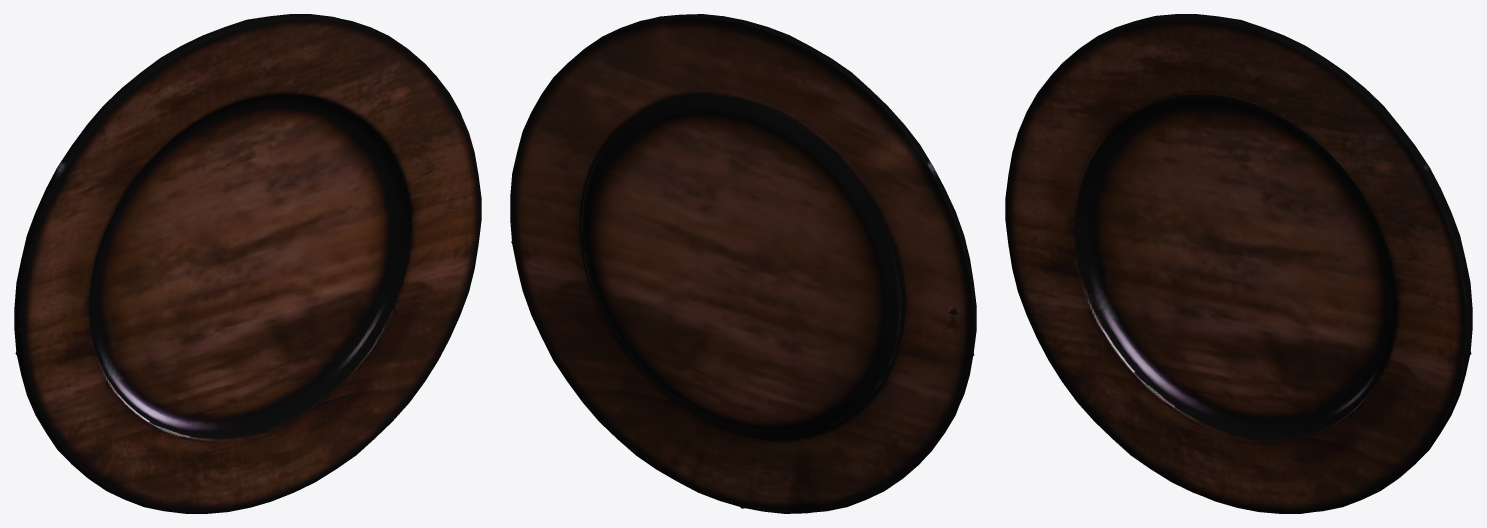
Rendered from BLACK_Woodgrain_CHARGERPlate_1InchTall__0222031012_texture.glb.
3 views of the same model, side by side, from view 1: azimuth 30°, elevation 25°; view 2: azimuth 150°, elevation 25°; view 3: azimuth 330°, elevation 25° (orthographic).
Visible parts, largest first — view 1: Mesh_0; view 2: Mesh_0; view 3: Mesh_0.
Part boxes in pixels (<box>): Mesh_0: <box>14,14,481,513</box>; Mesh_0: <box>510,14,976,513</box>; Mesh_0: <box>1005,14,1472,513</box>.
Bounding box in the file's own units: 0.0253 × 0.0254 × 0.000939.
Materials: 1 (1 with a texture image).
